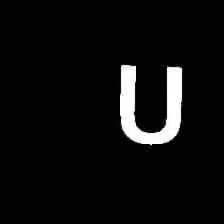LTR_U: (112, 53, 188, 152)
